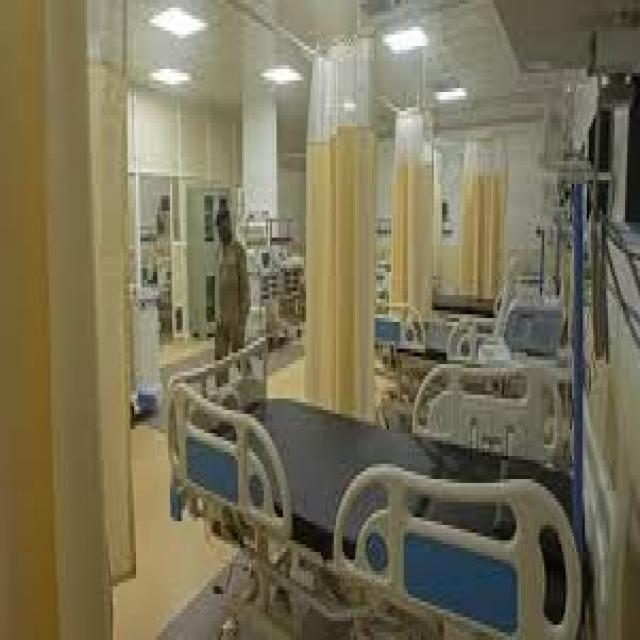patient_bed: (159, 330, 585, 598)
